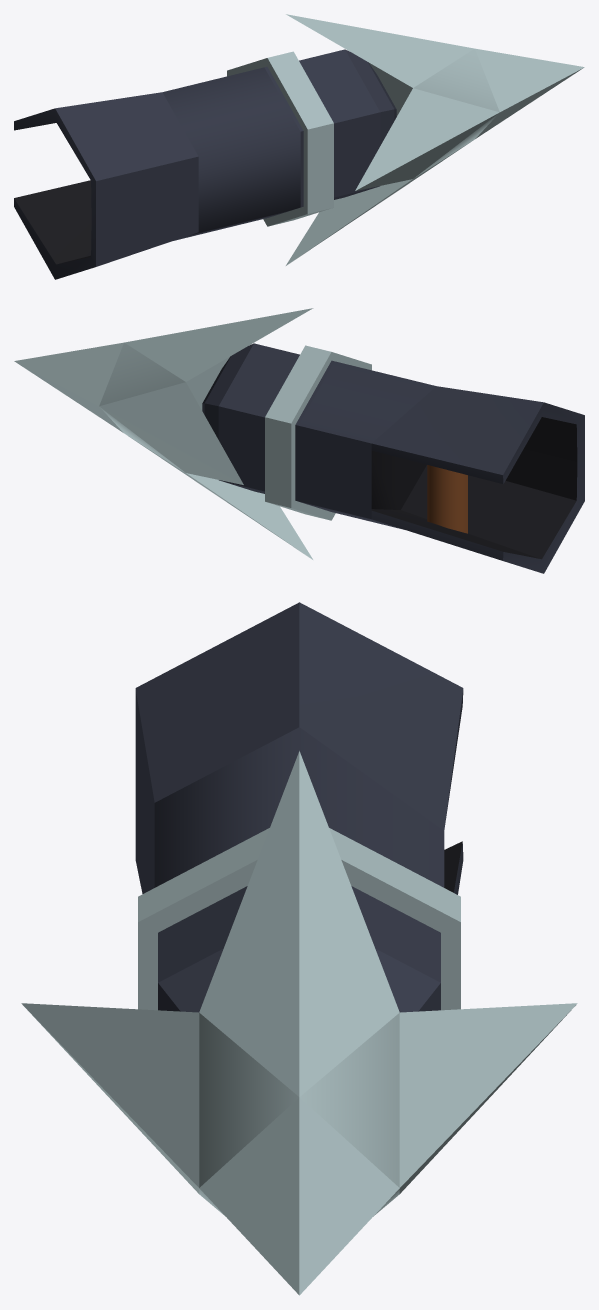
Rendered from Grappling Hook.fbx.
The picture shows the model from 3 angles, top to bottom: view 1: azimuth 30°, elevation 25°; view 2: azimuth 150°, elevation 25°; view 3: azimuth 270°, elevation 25°; orthographic projection. The views are drawn at different scales.
Visible parts, largest first — view 1: Body, Hook; view 2: Body, Hook; view 3: Hook, Body.
Boxes of the visible parts, <box> form: Body: <box>14,49,396,279</box>; Hook: <box>286,14,584,265</box>; Body: <box>202,343,584,573</box>; Hook: <box>14,308,313,559</box>; Hook: <box>21,751,577,1295</box>; Body: <box>135,602,463,1012</box>.
Bounding box in the file's own units: 916 × 417 × 417.
